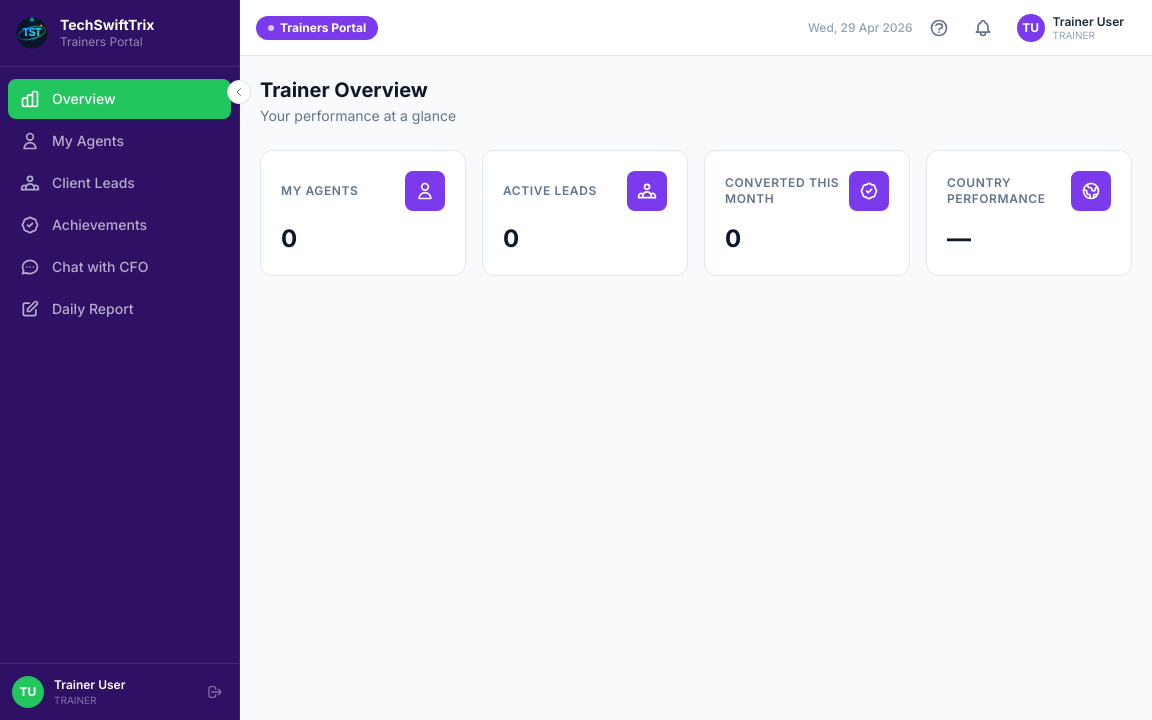
TrainersPortal › shows empty client leads table when no data
This screenshot has width=1152, height=720.
Click the button "Client Leads" at x=120, y=182, box x1=8 y1=162 x2=231 y2=202
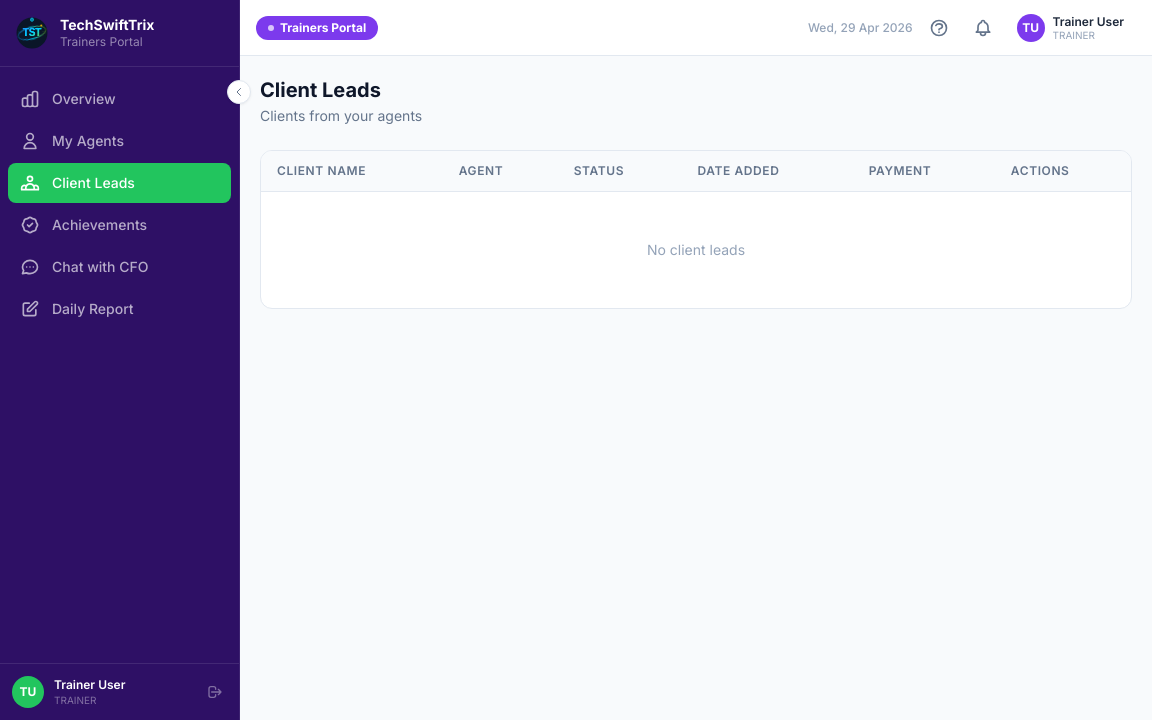
expect the text "No client leads" is shown: met, box x1=261 y1=192 x2=1131 y2=308
